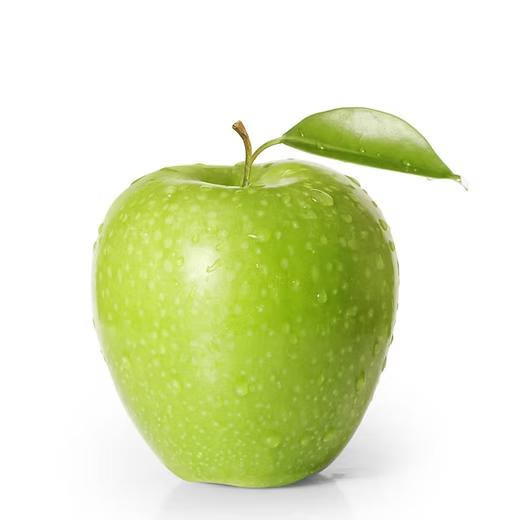non-mango: (87, 103, 467, 489)
